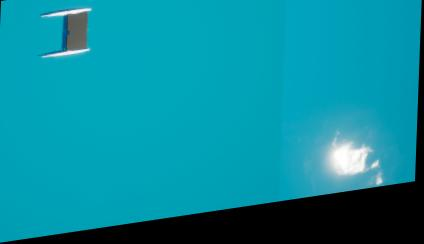boat: (40, 7, 91, 61)
drone: (67, 15, 87, 51)
land_base: (292, 124, 405, 206)
